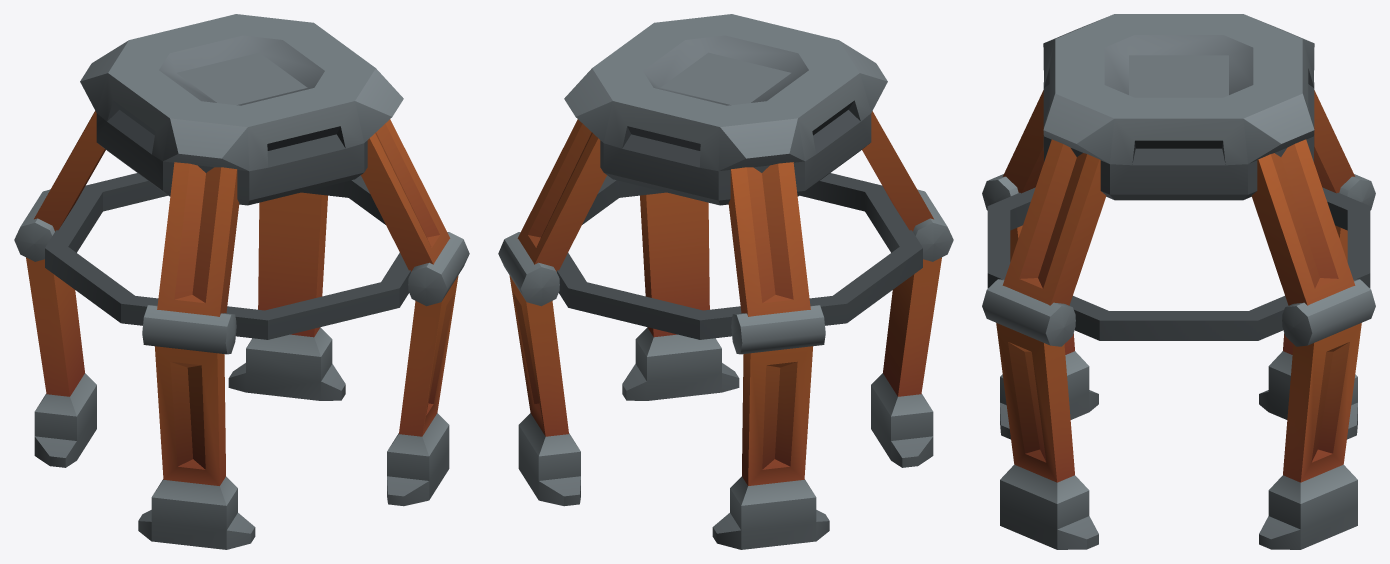
File: space-structure-tall.glb
3 renders of one model, left to right at view 1: azimuth 30°, elevation 25°; view 2: azimuth 150°, elevation 25°; view 3: azimuth 270°, elevation 25°, orthographic. The views are drawn at different scales.
Visible parts, largest first — view 1: structure_tall; view 2: structure_tall; view 3: structure_tall.
Boxes of the visible parts, x1,y1,x2,y2 form: structure_tall: [14, 14, 469, 549]; structure_tall: [498, 14, 953, 549]; structure_tall: [982, 14, 1375, 549].
Bounding box in the file's own units: 1.75 × 2 × 1.75.
